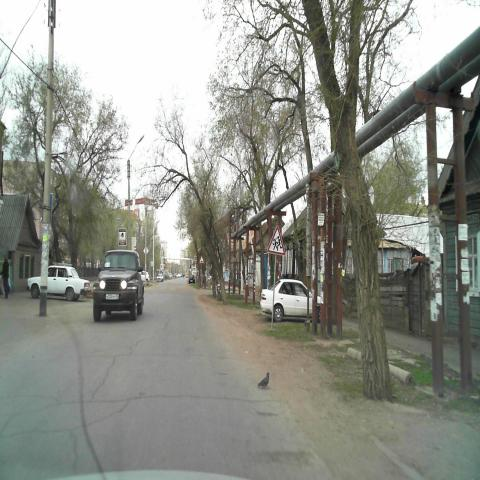1_17: (199, 254, 205, 263)
1_23: (266, 225, 286, 256)
